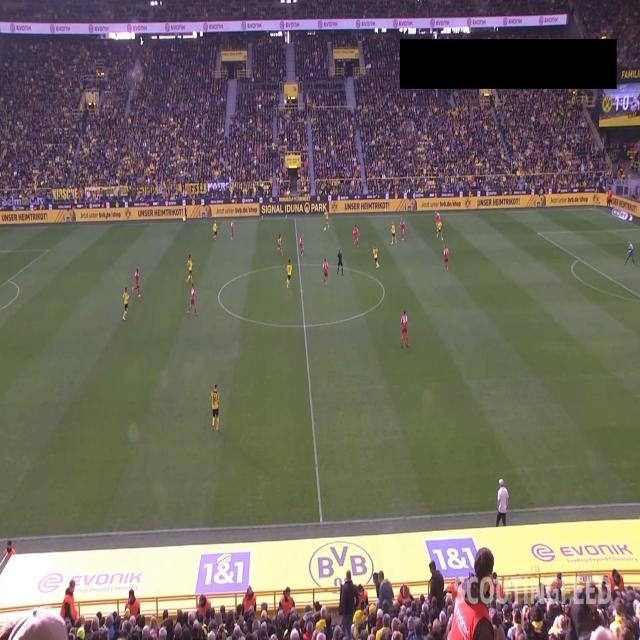ball: (323, 226, 327, 232)
